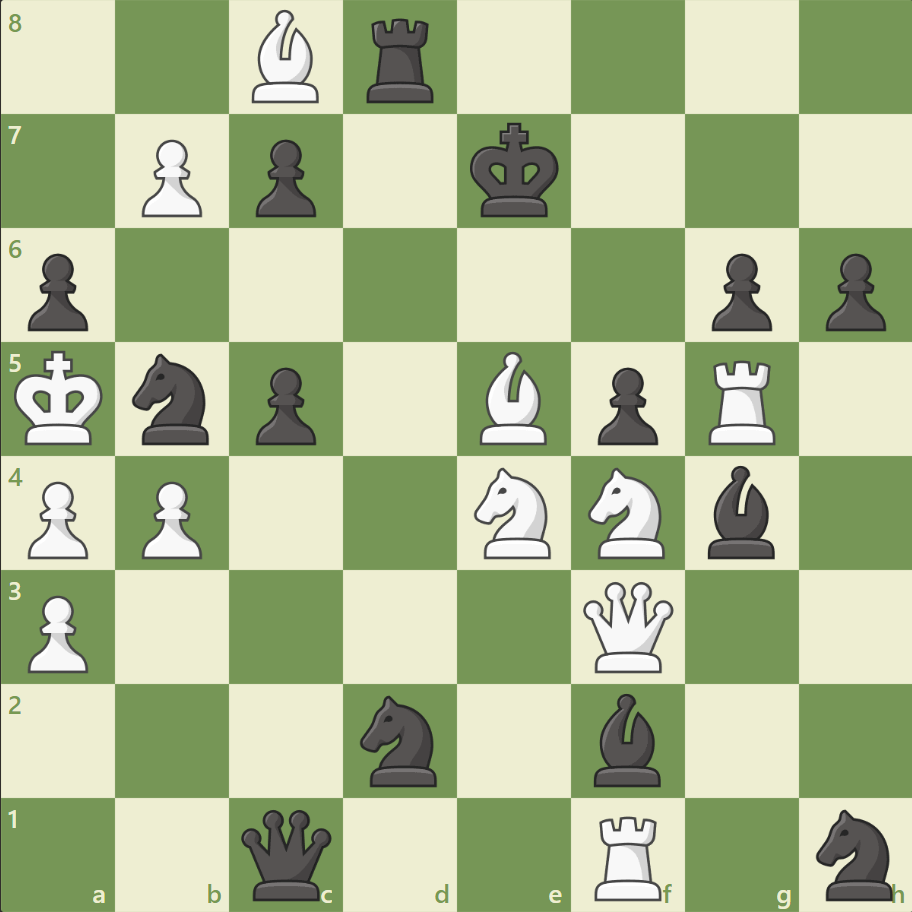B: (244, 6, 328, 109), (471, 347, 555, 449)
K: (11, 344, 111, 452)
N: (465, 461, 562, 564), (579, 461, 676, 564)
P: (133, 132, 208, 223), (20, 473, 95, 564), (133, 473, 208, 564), (20, 586, 95, 677)
Q: (578, 576, 677, 676)
R: (587, 806, 670, 904), (700, 352, 783, 449)
b: (698, 460, 782, 563), (585, 687, 669, 790)
k: (465, 117, 565, 225)
n: (351, 688, 449, 791), (124, 348, 222, 450), (806, 802, 903, 904)
p: (247, 132, 322, 223), (20, 246, 95, 337), (701, 246, 776, 337), (247, 359, 322, 450), (815, 246, 889, 337), (588, 359, 662, 450)
q: (237, 804, 336, 903)
r: (360, 12, 442, 109)
